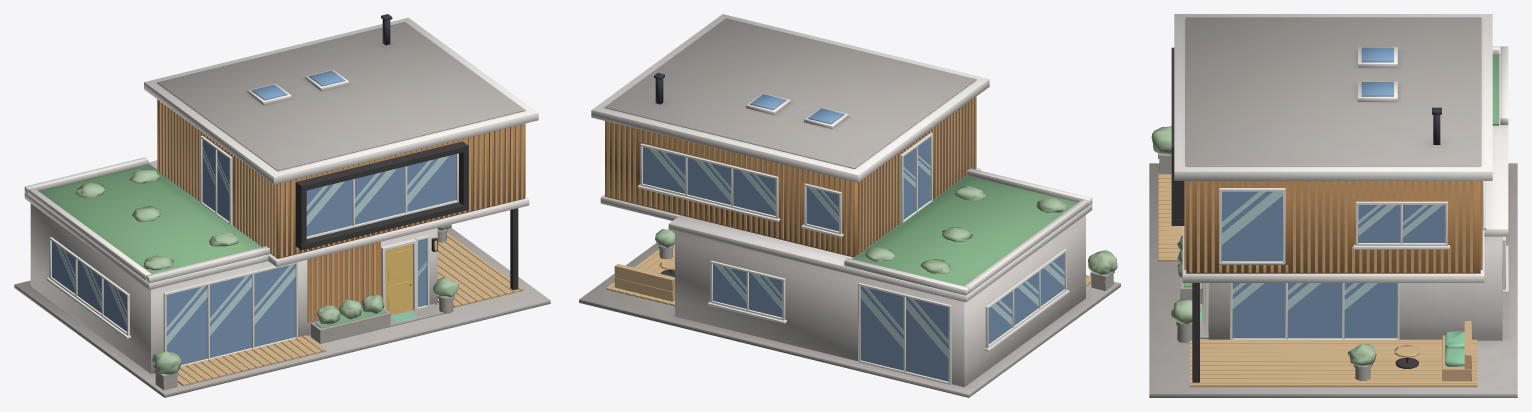
The model's file is mansion_modern.glb.
3 renders of one model, left to right at view 1: azimuth 30°, elevation 25°; view 2: azimuth 150°, elevation 25°; view 3: azimuth 270°, elevation 25°, orthographic. The views are drawn at different scales.
Visible parts, largest first — view 1: modern-house_body, modern-house_details; view 2: modern-house_body, modern-house_details; view 3: modern-house_body, modern-house_details.
Boxes of the visible parts, box(x1,y1,x2,y2) form: modern-house_body: box(14, 14, 550, 397); modern-house_details: box(46, 135, 523, 390); modern-house_body: box(579, 14, 1120, 397); modern-house_details: box(606, 133, 1117, 384); modern-house_body: box(1149, 14, 1517, 397); modern-house_details: box(1151, 47, 1508, 387).
Size of the model in its own units: 14.9 by 7.78 by 9.97.
Materials: 2 (2 with a texture image).
